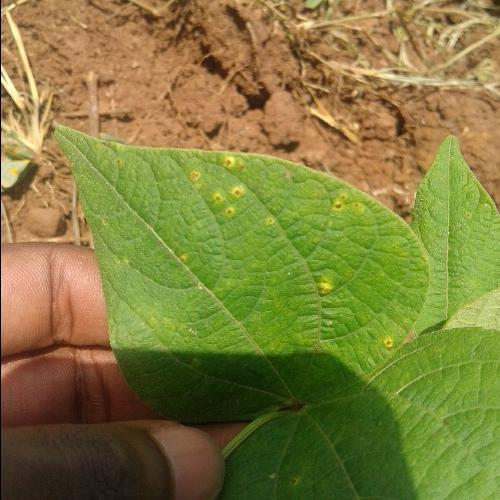hawar: (189, 156, 255, 230), (323, 191, 364, 229), (297, 270, 342, 302)
